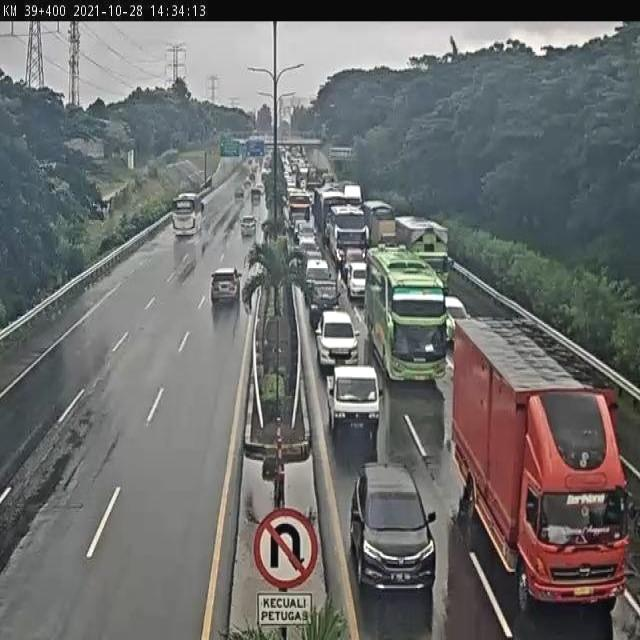Bus: (366, 244, 450, 384), (328, 206, 368, 264), (172, 187, 208, 240)
Car: (346, 459, 442, 593), (324, 362, 382, 434), (314, 309, 363, 371), (208, 264, 244, 310), (308, 277, 342, 324), (302, 259, 332, 289), (347, 262, 368, 303), (239, 214, 260, 241)
Truck: (451, 316, 632, 607), (393, 219, 449, 269)
